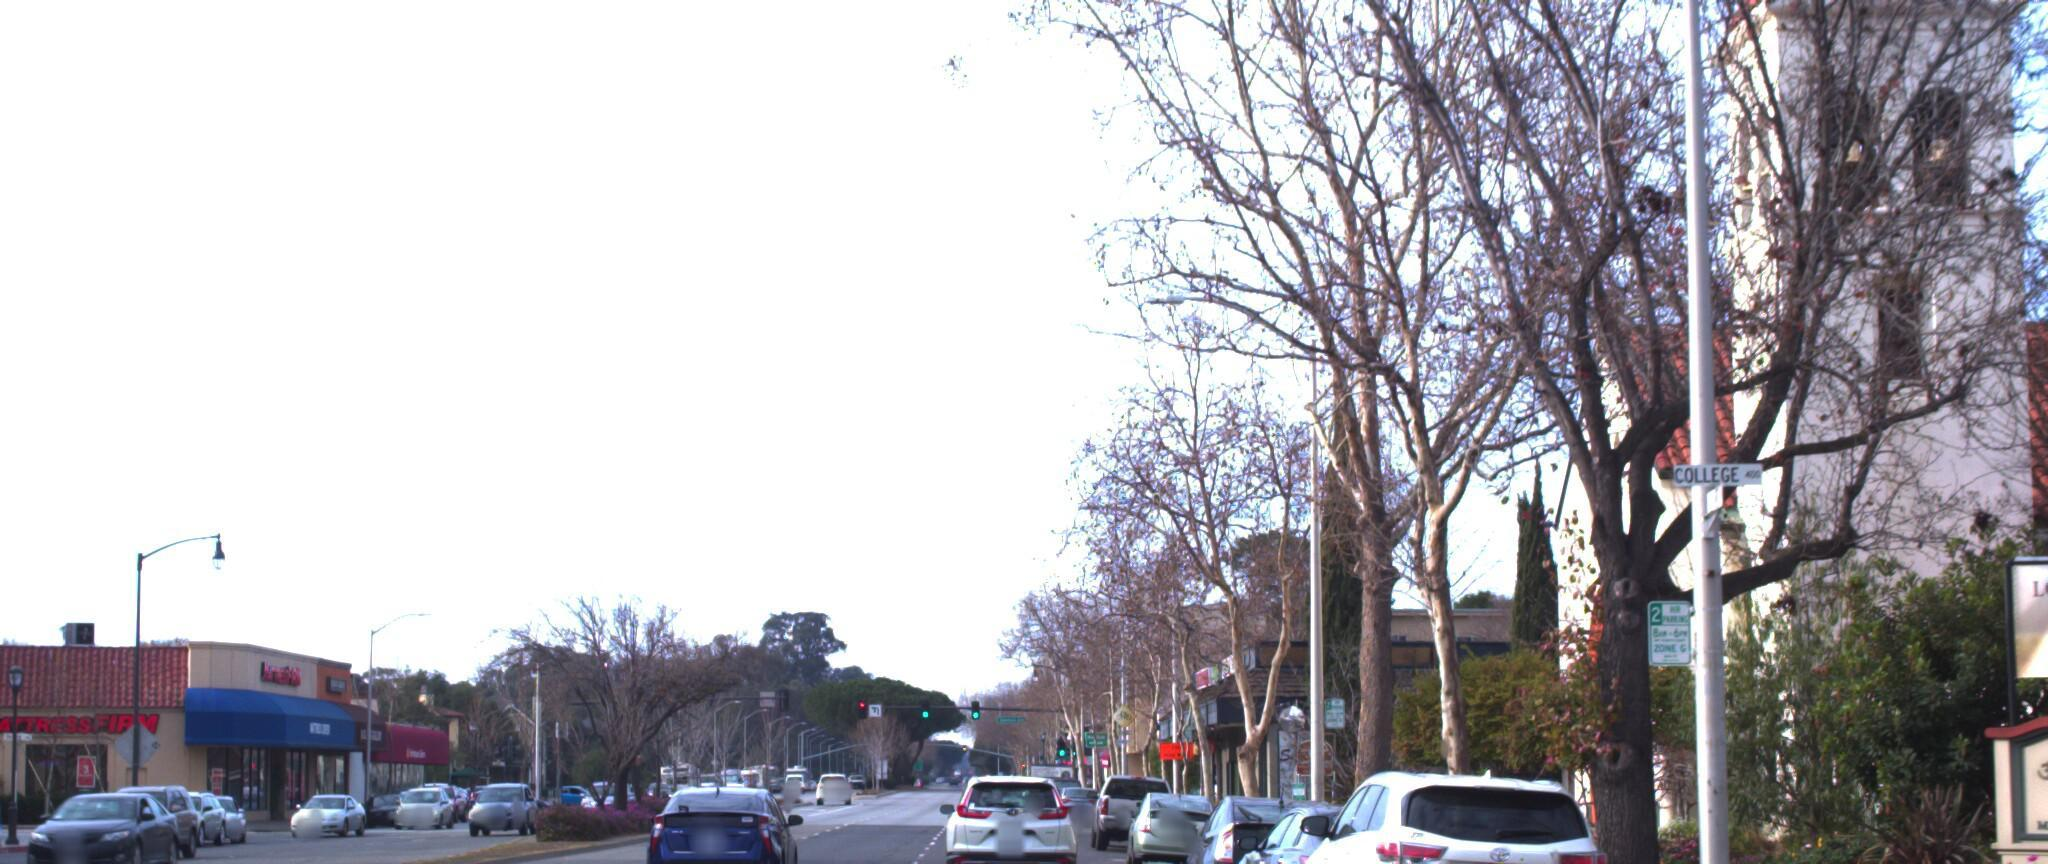car: (1275, 770, 1620, 864), (1208, 801, 1496, 864), (1172, 795, 1379, 864), (5, 796, 183, 864), (936, 777, 1064, 864), (630, 797, 792, 864), (1084, 771, 1176, 854), (1121, 794, 1221, 864), (0, 795, 7, 864)
